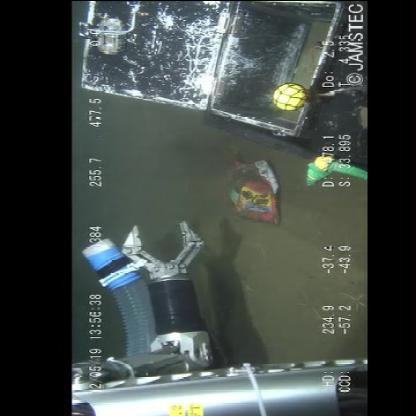Rov: (72, 225, 362, 415), (76, 1, 362, 155)
Rác: (218, 148, 288, 226)
